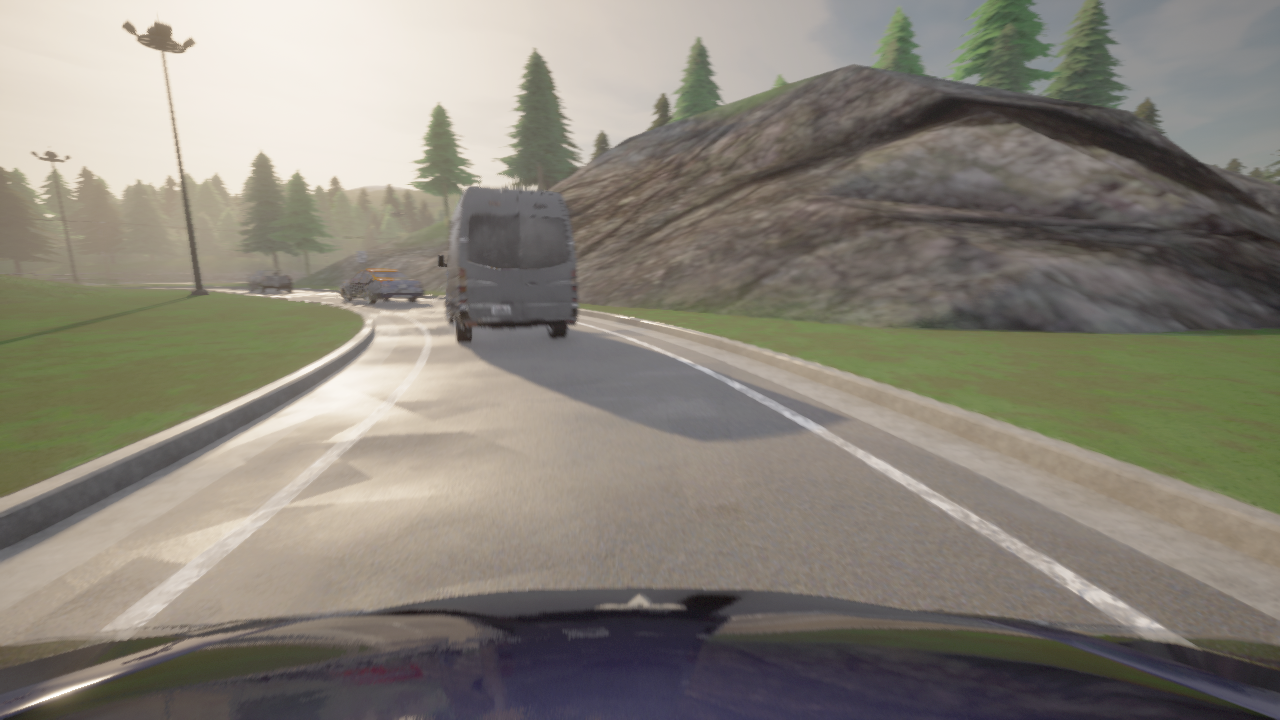cyclist: (0, 588, 1279, 719), (436, 187, 577, 342), (339, 269, 423, 304), (248, 269, 291, 292)
